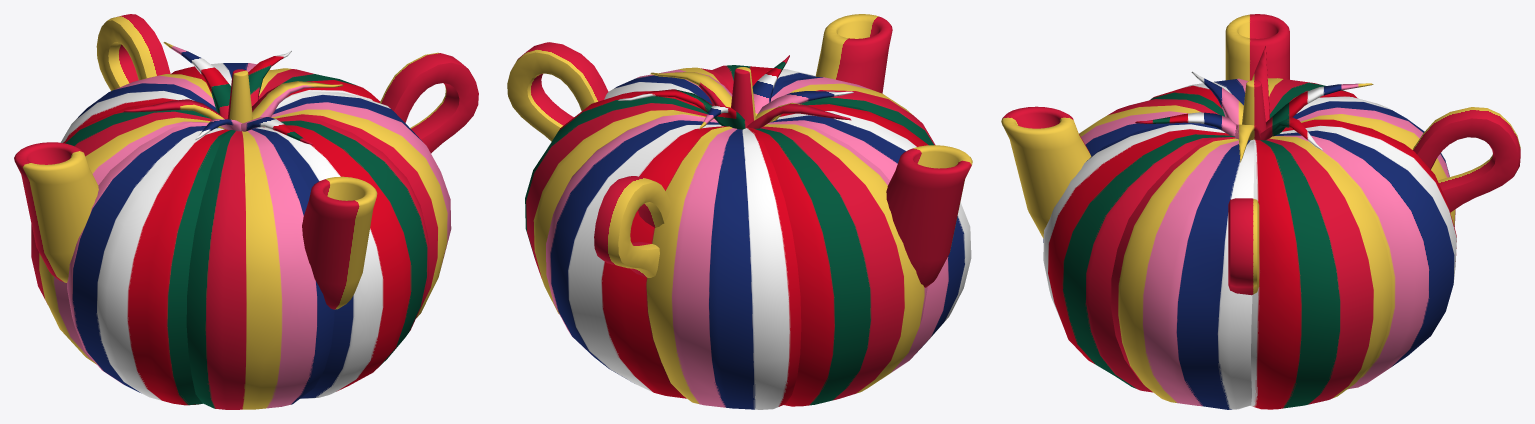
The model's file is D-1_Onstick.fbx.
3 renders of one model, left to right at view 1: azimuth 30°, elevation 25°; view 2: azimuth 150°, elevation 25°; view 3: azimuth 270°, elevation 25°, orthographic. The views are drawn at different scales.
Visible parts, largest first — view 1: D-1; view 2: D-1; view 3: D-1.
Boxes of the visible parts, x1,y1,x2,y2 form: D-1: [14, 14, 478, 409]; D-1: [507, 14, 972, 409]; D-1: [1001, 14, 1520, 409].
Bounding box in the file's own units: 116 × 74.38 × 116.
